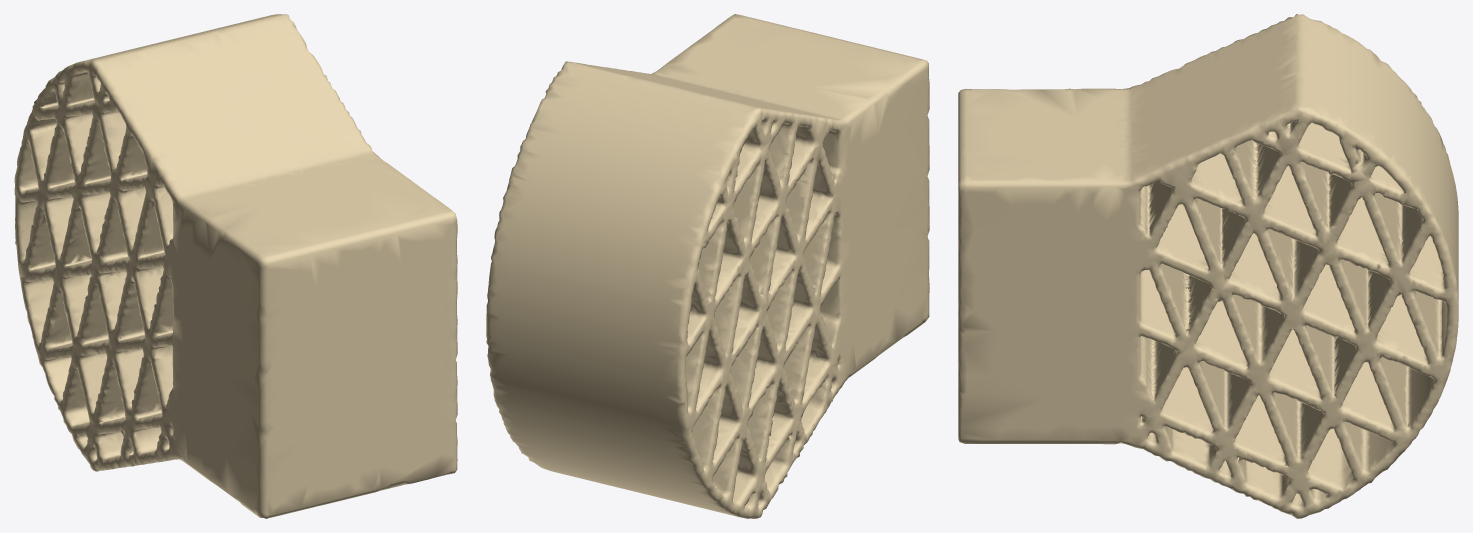
File: ollie-paw-shape-070.glb
3 views of the same model, side by side, from view 1: azimuth 30°, elevation 25°; view 2: azimuth 150°, elevation 25°; view 3: azimuth 270°, elevation 25° (orthographic).
Parts seen in each view (by area): view 1: world; view 2: world; view 3: world.
Boxes of the visible parts, bbox=[...] form: world: bbox=[14, 14, 457, 518]; world: bbox=[486, 14, 929, 518]; world: bbox=[958, 14, 1458, 518].
Size of the model in its own units: 20 by 39.94 by 44.
